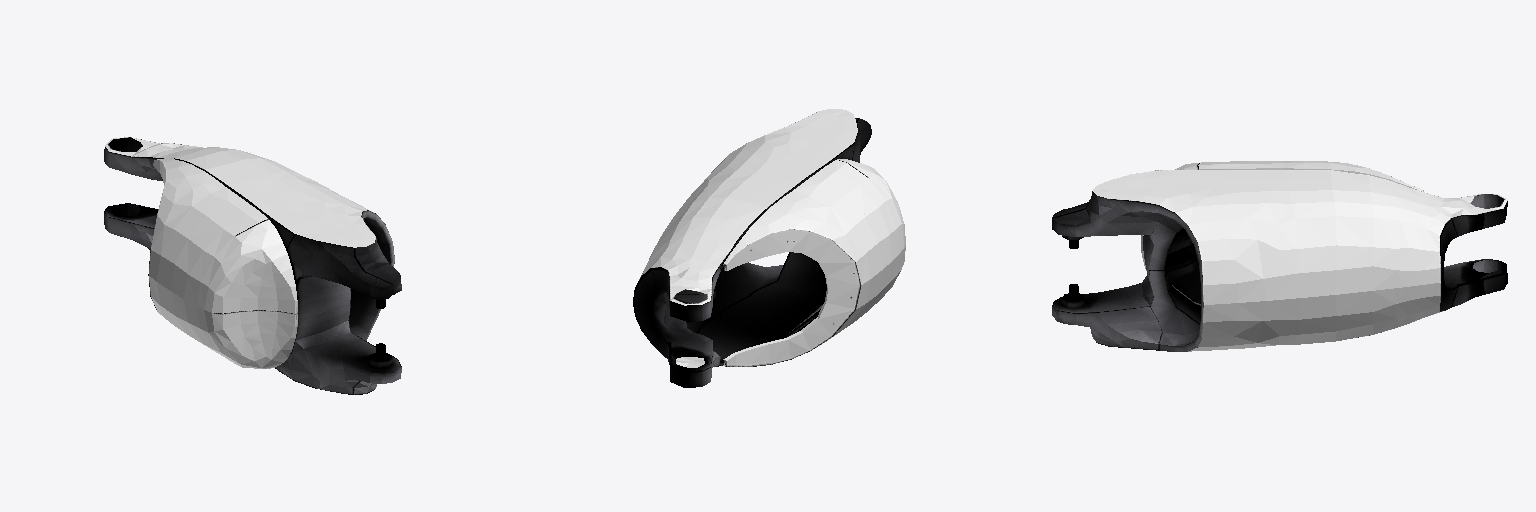
3 renders of one model, left to right at view 1: azimuth 30°, elevation 25°; view 2: azimuth 150°, elevation 25°; view 3: azimuth 270°, elevation 25°, orthographic.
Visible parts, largest first — view 1: r_uleg_r_ulegMesh; view 2: r_uleg_r_ulegMesh; view 3: r_uleg_r_ulegMesh.
Boxes of the visible parts, box(x1,y1,x2,y2) form: r_uleg_r_ulegMesh: box(104, 137, 401, 394); r_uleg_r_ulegMesh: box(633, 109, 905, 387); r_uleg_r_ulegMesh: box(1052, 161, 1507, 351).
Size of the model in its own units: 0.2107 by 0.1481 by 0.4127.
1 materials, 1 textured.